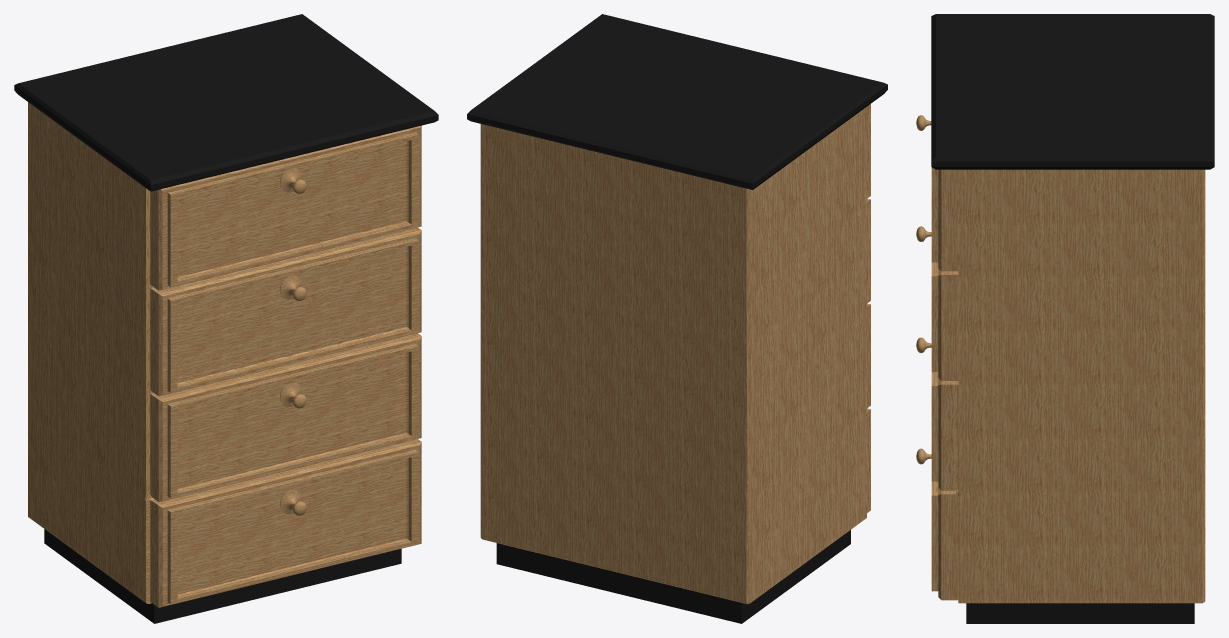
The model's file is KidsDresser.fbx.
The picture shows the model from 3 angles, left to right: view 1: azimuth 30°, elevation 25°; view 2: azimuth 150°, elevation 25°; view 3: azimuth 270°, elevation 25°; orthographic projection. The views are drawn at different scales.
Visible parts, largest first — view 1: tUmb5, tUmb, tUmb6; view 2: tUmb5, tUmb, tUmb6; view 3: tUmb5, tUmb, tUmb6.
Part boxes in pixels (x1=…): tUmb5: x1=28, y1=102, x2=421, y2=607; tUmb: x1=14, y1=14, x2=438, y2=191; tUmb6: x1=44, y1=529, x2=401, y2=623; tUmb5: x1=480, y1=104, x2=870, y2=604; tUmb: x1=467, y1=14, x2=887, y2=189; tUmb6: x1=496, y1=530, x2=850, y2=623; tUmb5: x1=931, y1=167, x2=1205, y2=603; tUmb: x1=931, y1=14, x2=1214, y2=169; tUmb6: x1=966, y1=603, x2=1194, y2=623.
Size of the model in its own units: 11.3 by 17.21 by 9.79.
